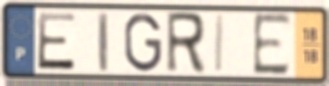E: (251, 11, 293, 78), (35, 11, 78, 72)
G: (122, 12, 164, 74)
I: (96, 10, 111, 74), (213, 13, 227, 75)
R: (164, 10, 208, 76)
